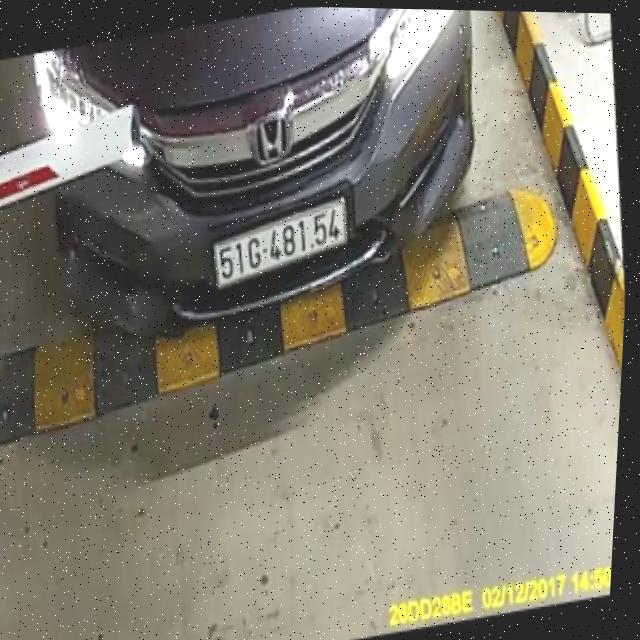car: (9, 1, 494, 356)
plate: (208, 196, 353, 295)
